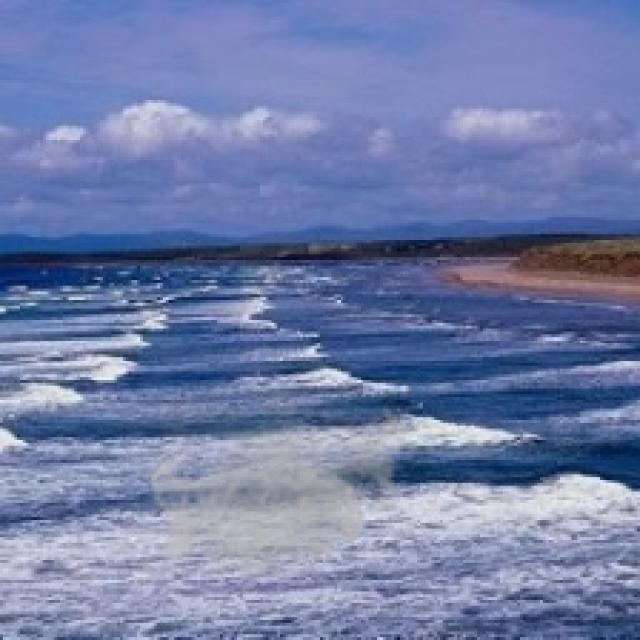Smoke: (142, 388, 418, 588)
